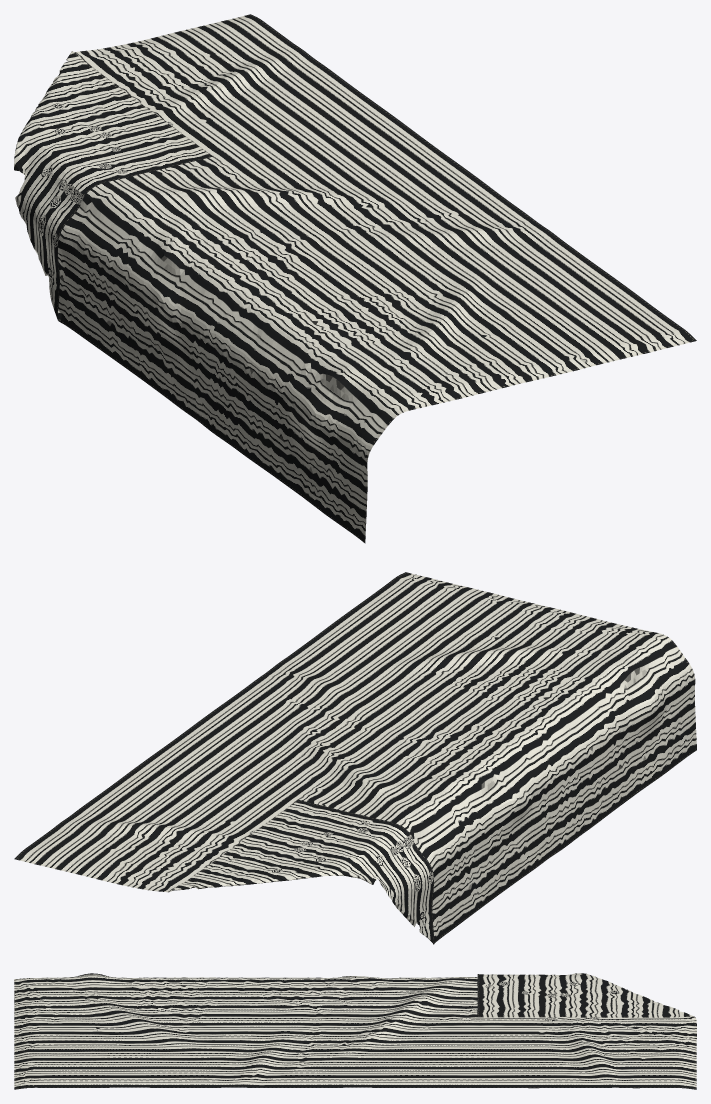
Rendered from task-10.glb.
3 renders of one model, top to bottom at view 1: azimuth 30°, elevation 25°; view 2: azimuth 150°, elevation 25°; view 3: azimuth 270°, elevation 25°, orthographic. The views are drawn at different scales.
Parts seen in each view (by area): view 1: blanket__0; view 2: blanket__0; view 3: blanket__0.
Part boxes in pixels (x1,y1,x2,y2): blanket__0: [14, 14, 696, 543]; blanket__0: [14, 572, 696, 944]; blanket__0: [14, 973, 696, 1089].
Bounding box in the file's own units: 0.8466 × 0.3192 × 1.95.
1 material, 1 textured.
